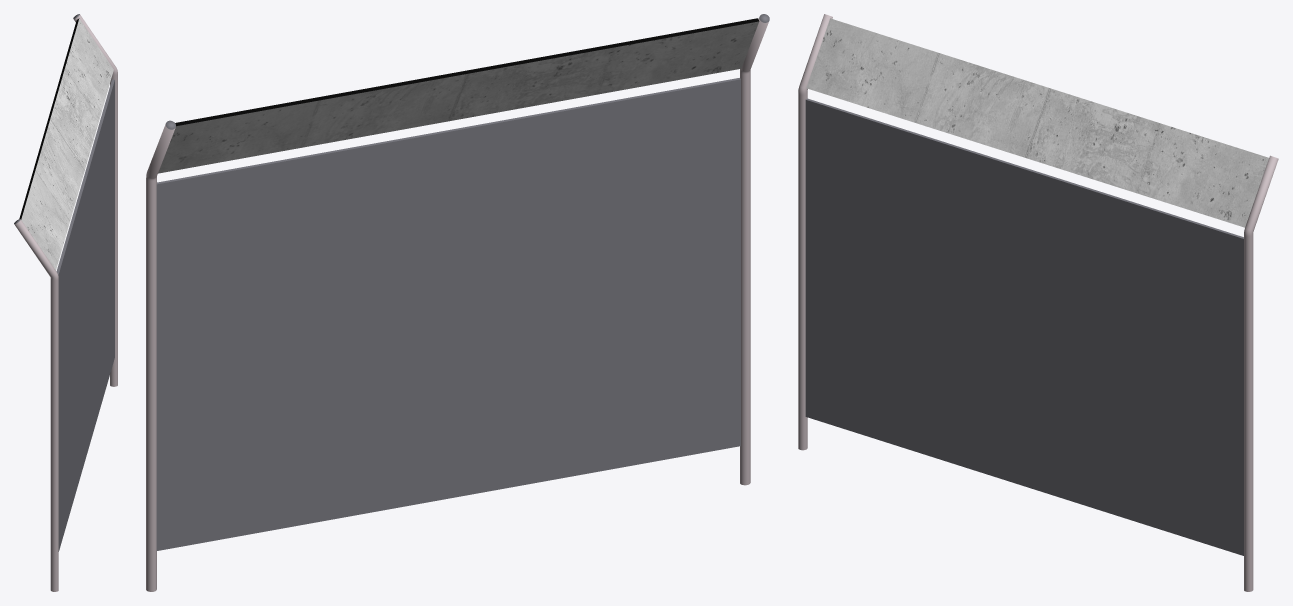
The model's file is GraffitiWallRaf.fbx.
3 renders of one model, left to right at view 1: azimuth 30°, elevation 25°; view 2: azimuth 150°, elevation 25°; view 3: azimuth 270°, elevation 25°, orthographic. The views are drawn at different scales.
Visible parts, largest first — view 1: Wall 1.001; view 2: Wall 1.001; view 3: Wall 1.001.
Boxes of the visible parts, <box> form: Wall 1.001: <box>14,14,117,591</box>; Wall 1.001: <box>146,14,769,591</box>; Wall 1.001: <box>798,14,1278,591</box>.
Bounding box in the file's own units: 108 × 133 × 138.
Materials: 3 (1 with a texture image).
